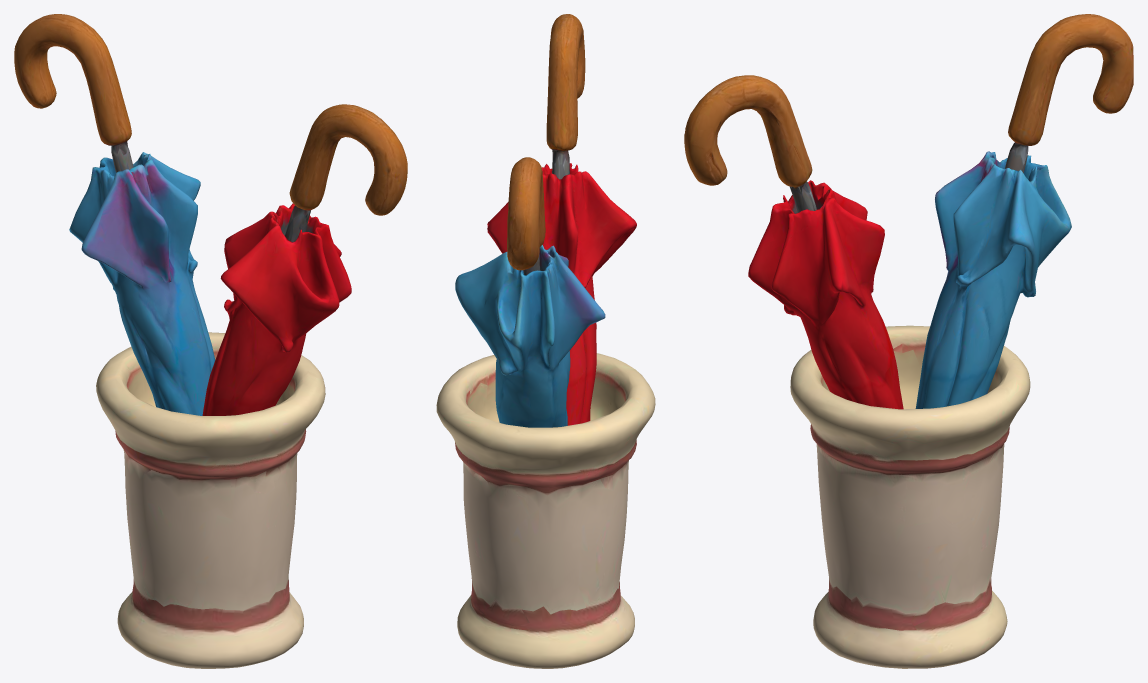
Rendered from scene-umbrella-stand.glb.
3 renders of one model, left to right at view 1: azimuth 30°, elevation 25°; view 2: azimuth 150°, elevation 25°; view 3: azimuth 270°, elevation 25°, orthographic. The views are drawn at different scales.
Parts seen in each view (by area): view 1: tripo_node_6e0173cf-f168-4926-970d-adfe228381e4; view 2: tripo_node_6e0173cf-f168-4926-970d-adfe228381e4; view 3: tripo_node_6e0173cf-f168-4926-970d-adfe228381e4.
Part boxes in pixels (left/top/right/bottom): tripo_node_6e0173cf-f168-4926-970d-adfe228381e4: left=14, top=14, right=407, bottom=668; tripo_node_6e0173cf-f168-4926-970d-adfe228381e4: left=436, top=14, right=655, bottom=668; tripo_node_6e0173cf-f168-4926-970d-adfe228381e4: left=684, top=14, right=1133, bottom=668.
Bounding box in the file's own units: 0.349 × 0.9792 × 0.6766.
1 material, 1 textured.
